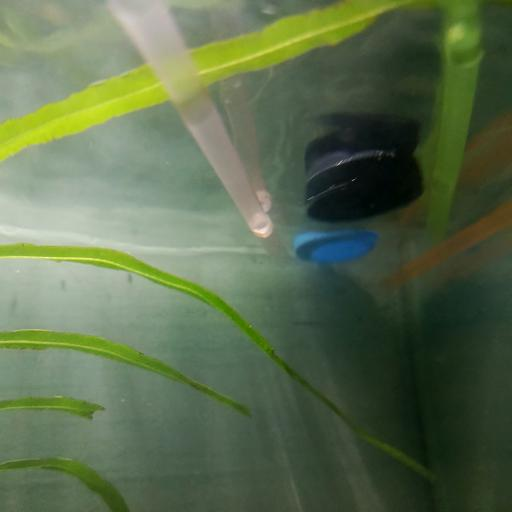bottle_cap: (304, 150, 426, 222), (293, 227, 375, 264)
plastic_straw: (102, 0, 284, 254), (423, 1, 484, 229), (384, 198, 512, 289)
